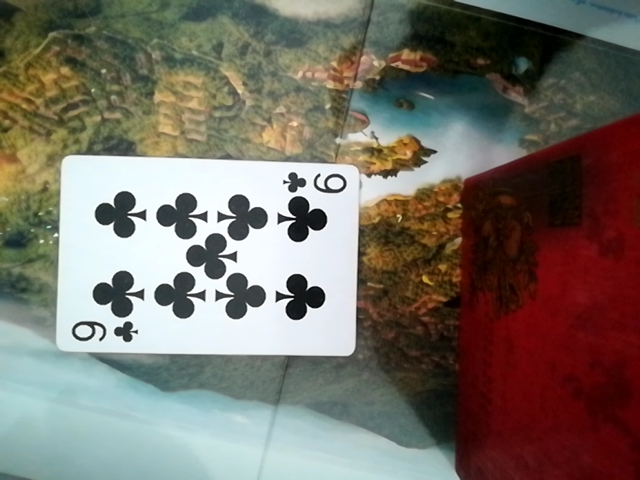mh 9: (55, 160, 357, 361)
